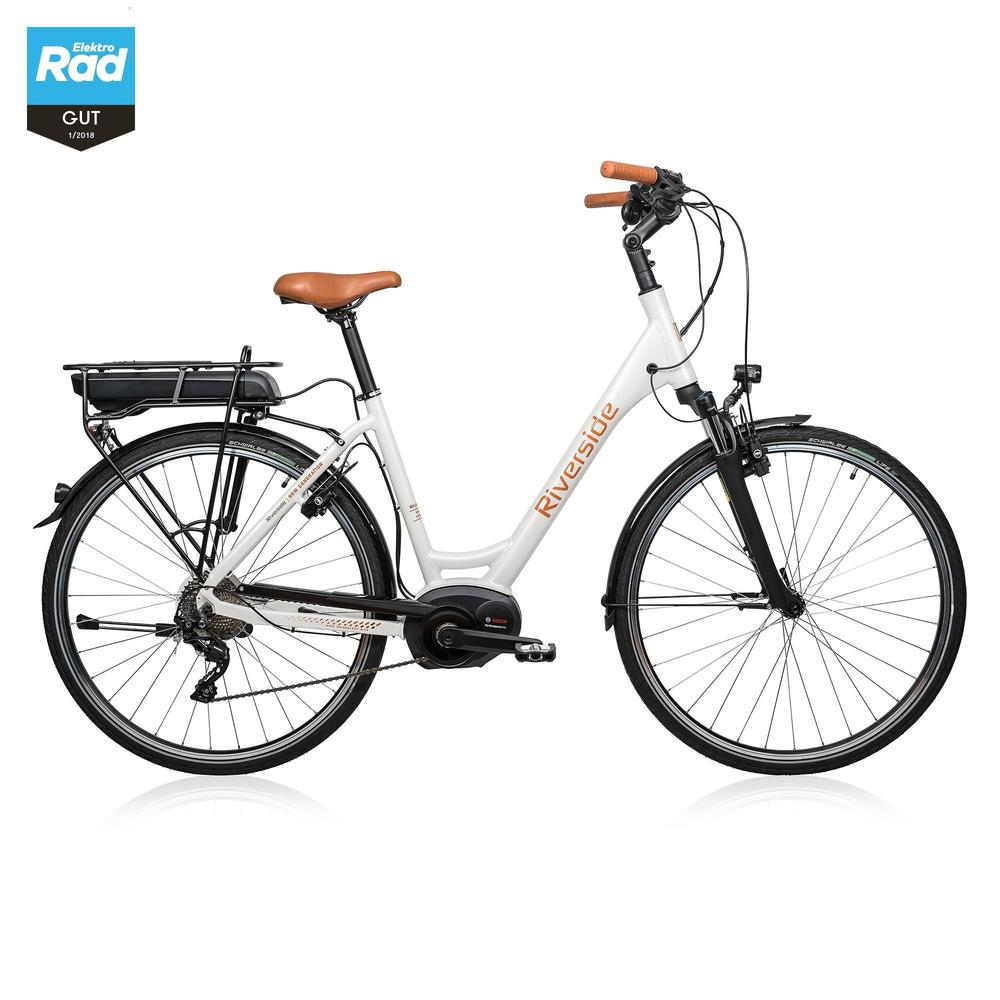UrbanBike: (39, 158, 975, 775)
